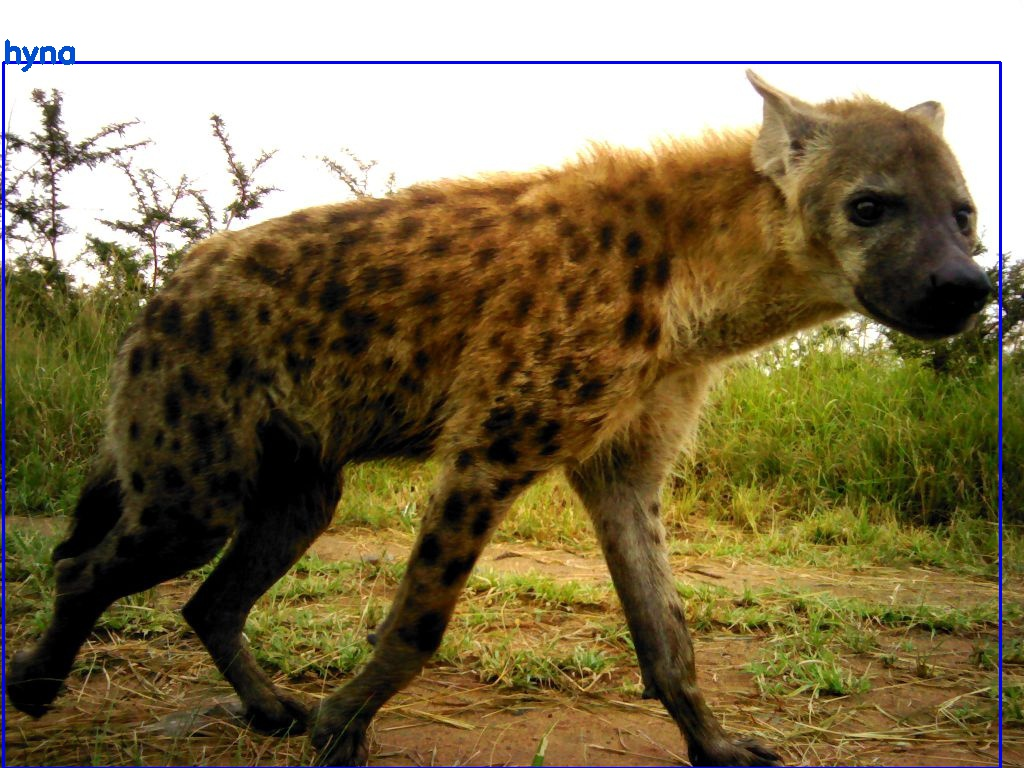hyna: (2, 62, 1000, 768)
